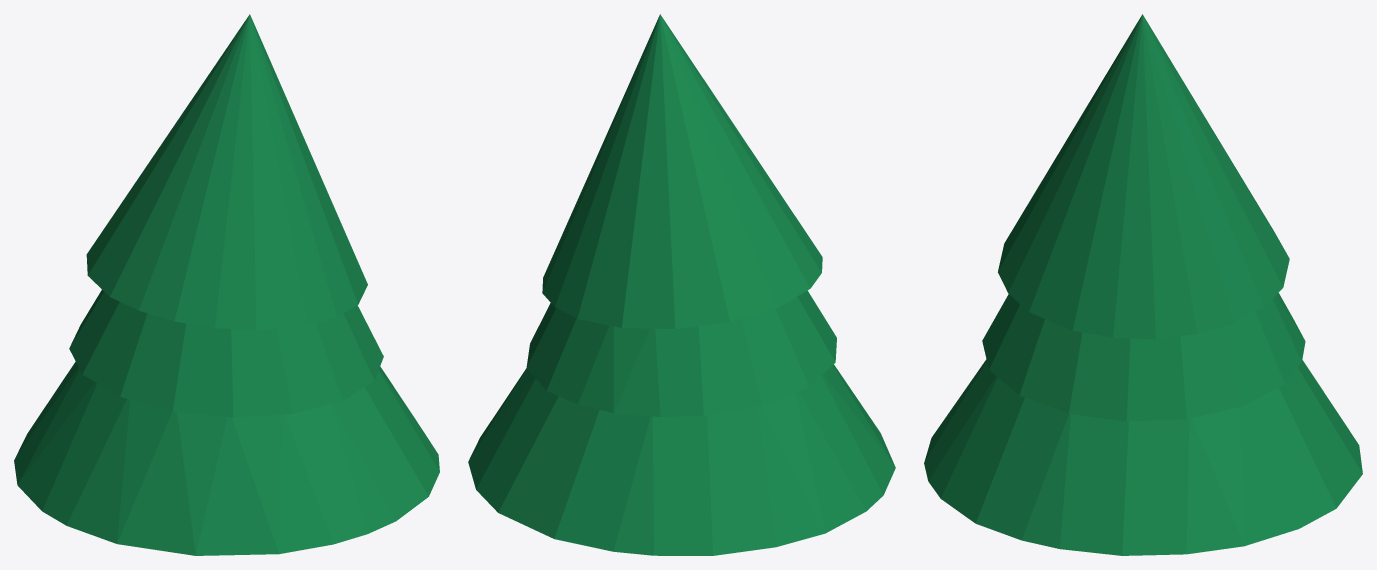
Rendered from tree19.fbx.
3 views of the same model, side by side, from view 1: azimuth 30°, elevation 25°; view 2: azimuth 150°, elevation 25°; view 3: azimuth 270°, elevation 25° (orthographic). The views are drawn at different scales.
Visible parts, largest first — view 1: treetype19; view 2: treetype19; view 3: treetype19.
Boxes of the visible parts, x1,y1,x2,y2 form: treetype19: [14, 14, 439, 555]; treetype19: [468, 14, 895, 555]; treetype19: [924, 14, 1362, 555].
Size of the model in its own units: 155 by 197 by 155.
